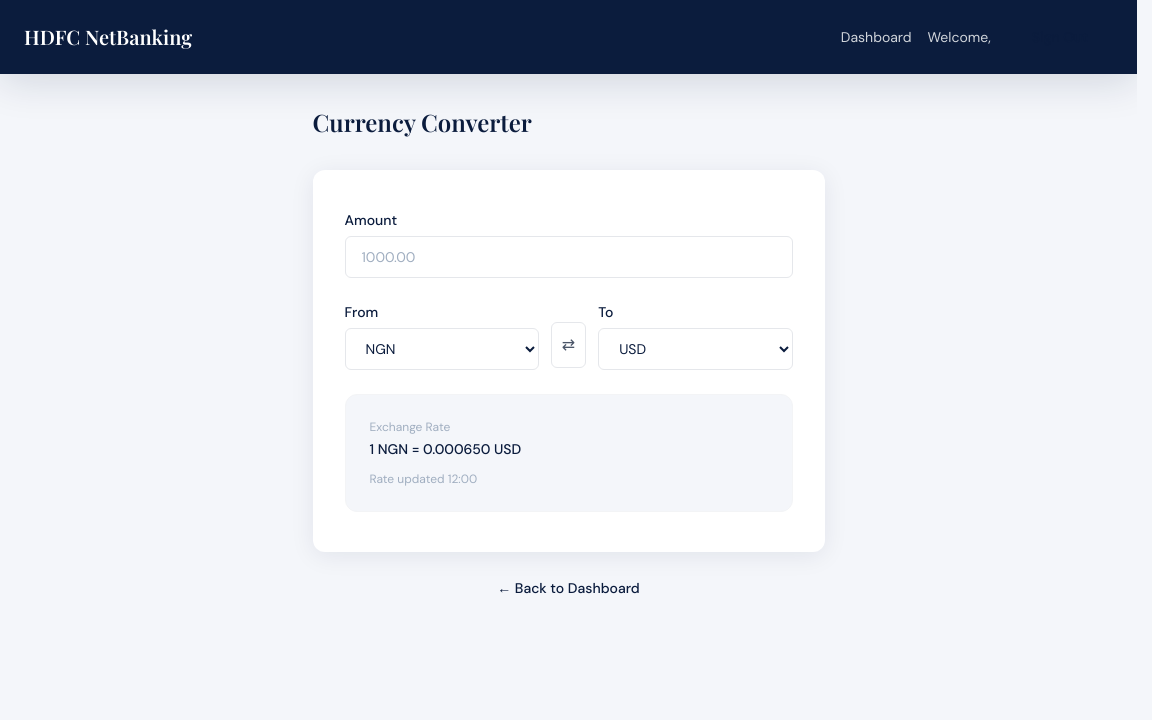
it: CurrencyConverterPage › should show converted amount when rate is available
In the number field labelled "Amount": (568, 257) 344,236 -> 792,278, type "1000"
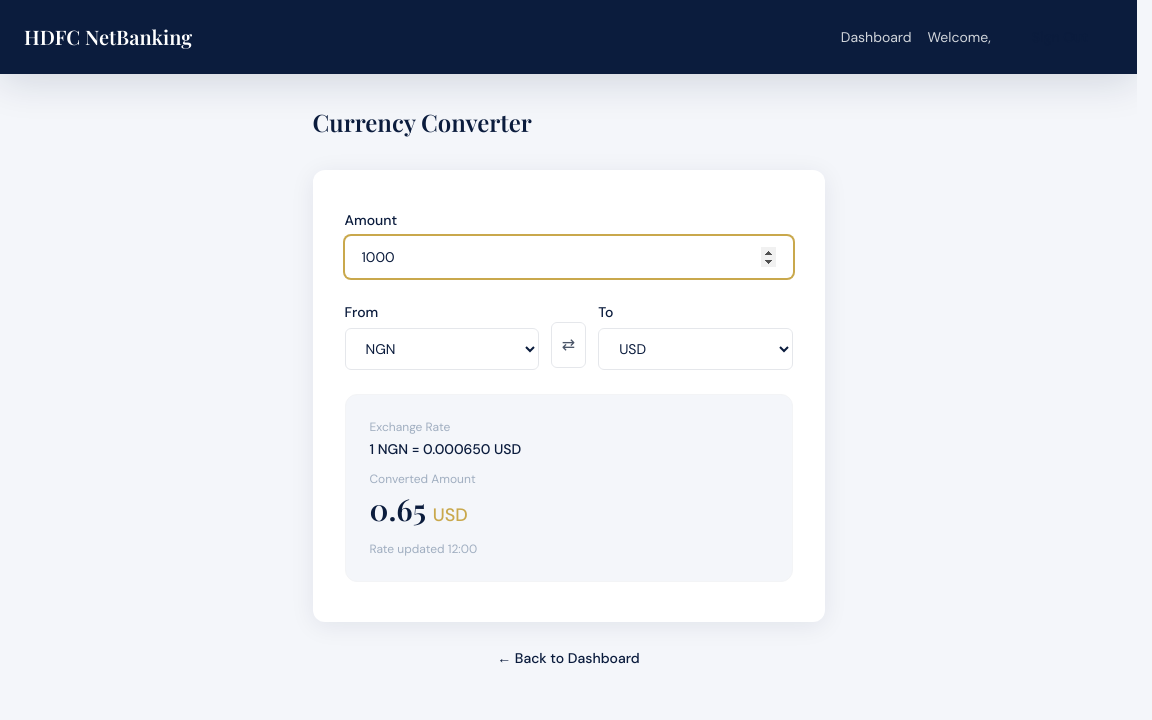
Now the text "Converted Amount" is shown, box 370,471 -> 476,487
